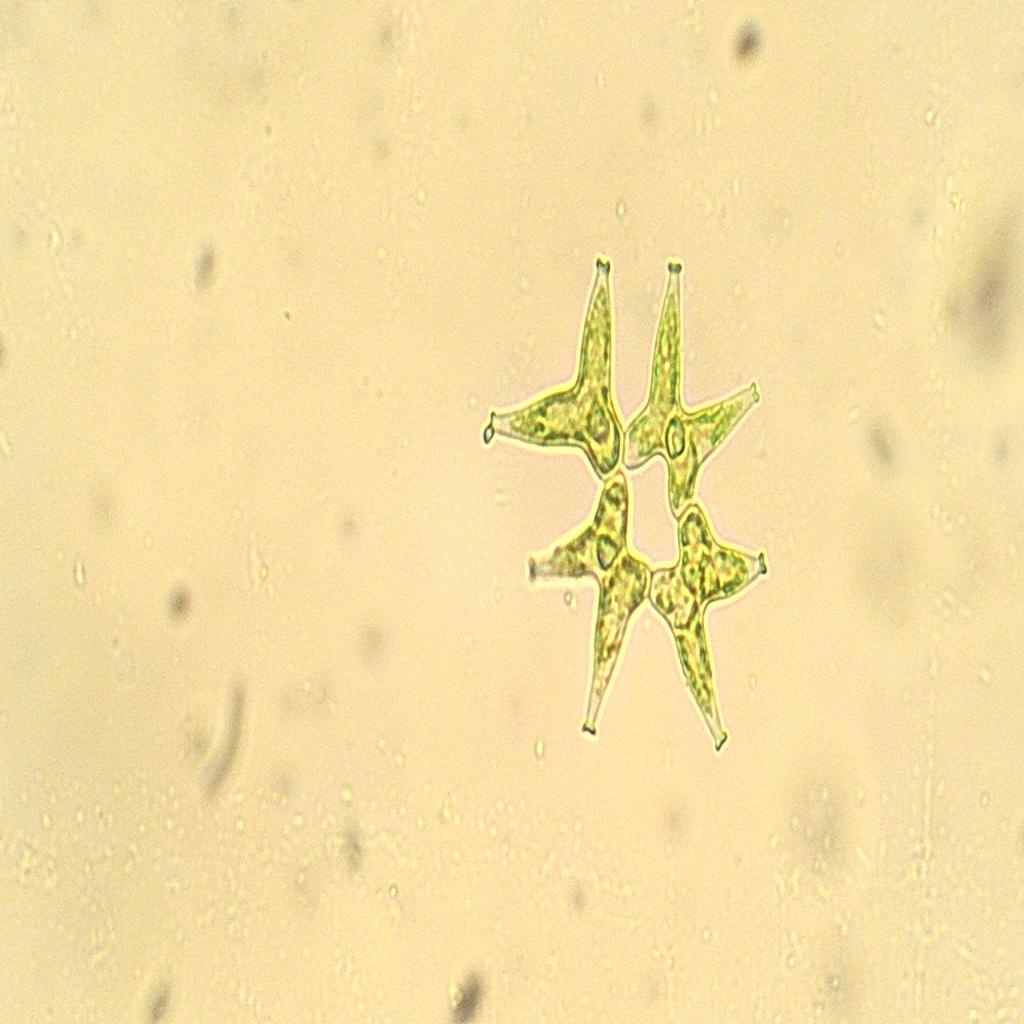Pediastrum_CT: (469, 237, 793, 771)
